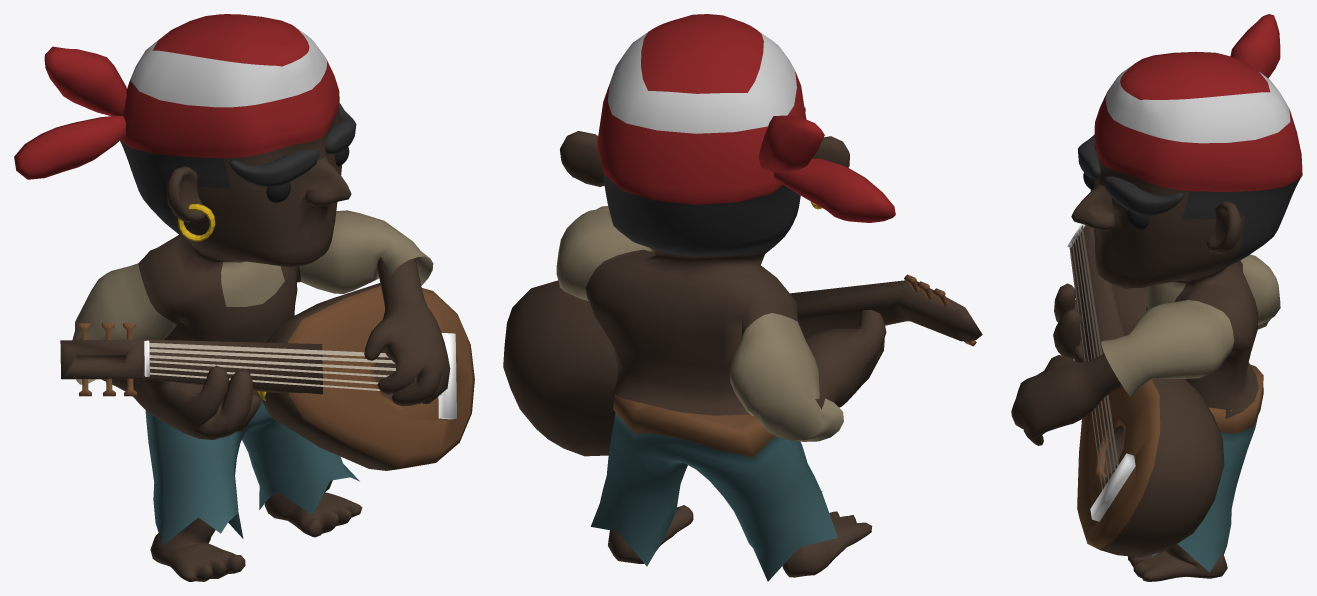
The model's file is pirate_fourglb.glb.
3 views of the same model, side by side, from view 1: azimuth 30°, elevation 25°; view 2: azimuth 150°, elevation 25°; view 3: azimuth 270°, elevation 25° (orthographic). The views are drawn at different scales.
Parts seen in each view (by area): view 1: Weapon_Lute; view 2: Weapon_Lute; view 3: Weapon_Lute.
Part boxes in pixels (<box>): Weapon_Lute: <box>14,14,474,581</box>; Weapon_Lute: <box>503,14,982,581</box>; Weapon_Lute: <box>1011,14,1302,581</box>.
Bounding box in the file's own units: 1.31 × 1.49 × 0.8042.
Materials: 1 (1 with a texture image).
